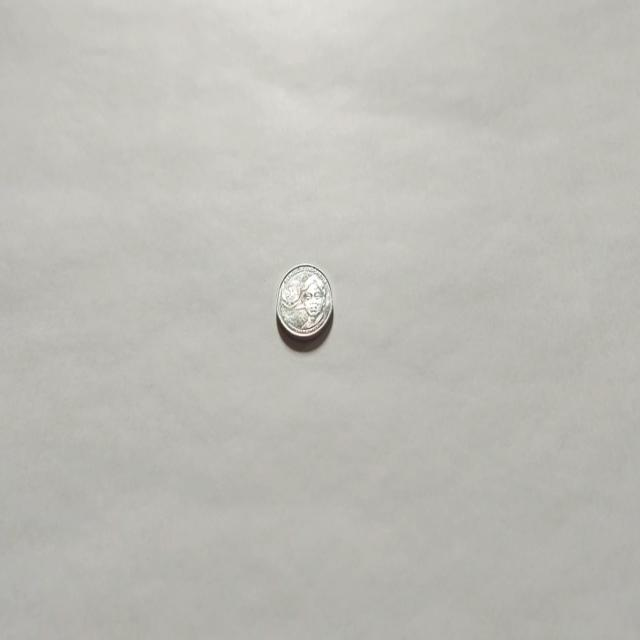dua ratus rupiah: (275, 262, 333, 342)
